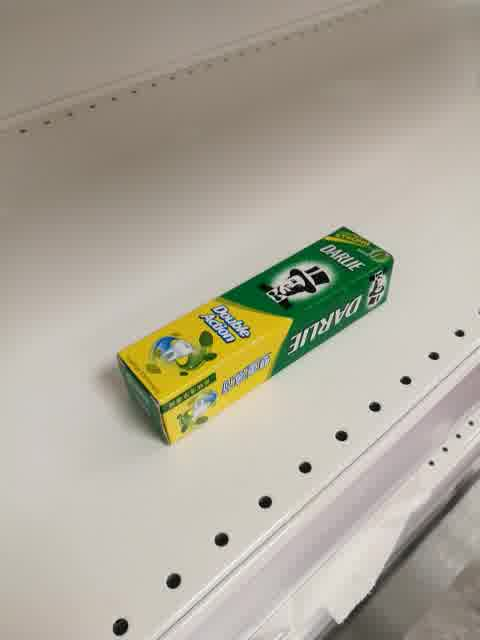toothpaste: (115, 224, 396, 449)
